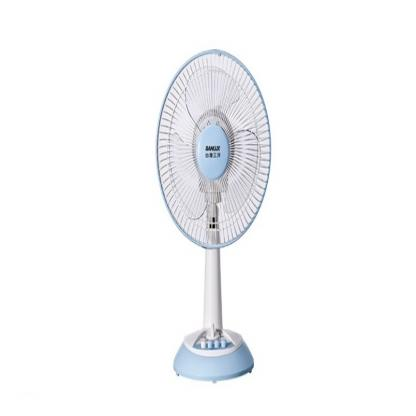fan: (151, 46, 276, 386)
